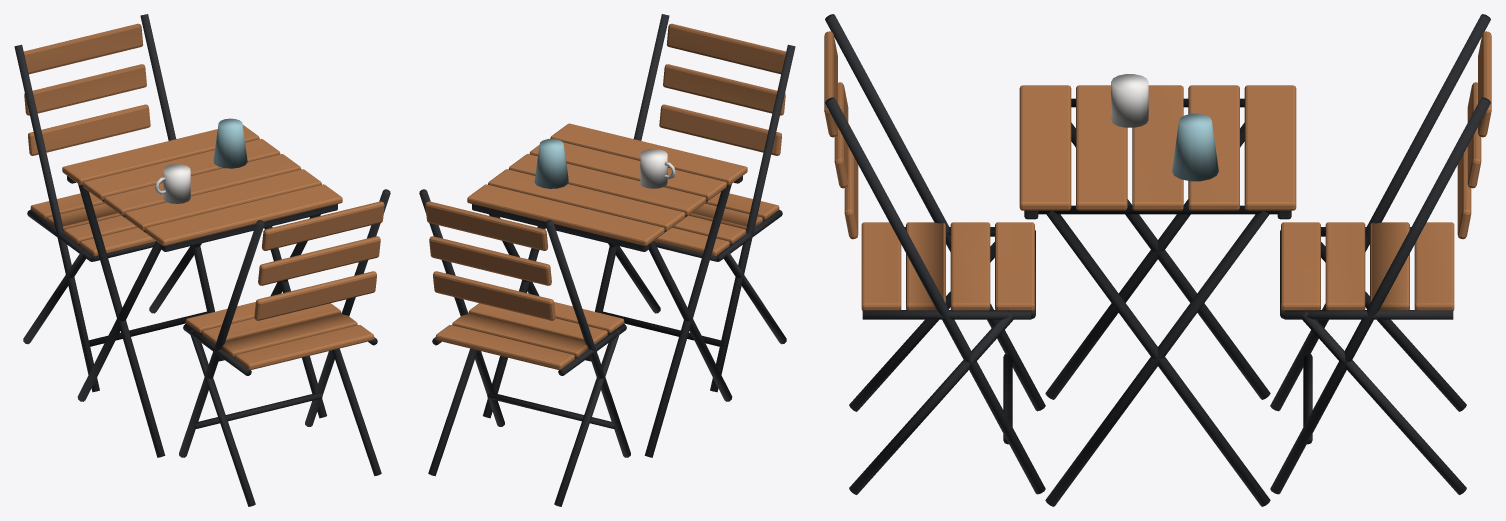
File: patioSet.glb
3 views of the same model, side by side, from view 1: azimuth 30°, elevation 25°; view 2: azimuth 150°, elevation 25°; view 3: azimuth 270°, elevation 25° (orthographic). The views are drawn at different scales.
Visible parts, largest first — view 1: patioSet; view 2: patioSet; view 3: patioSet.
Part boxes in pixels (box(x1,y1,x2,y2)): patioSet: box(14, 14, 390, 506); patioSet: box(419, 14, 795, 506); patioSet: box(824, 14, 1491, 506).
Bounding box in the file's own units: 0.6 × 0.9328 × 1.42.
